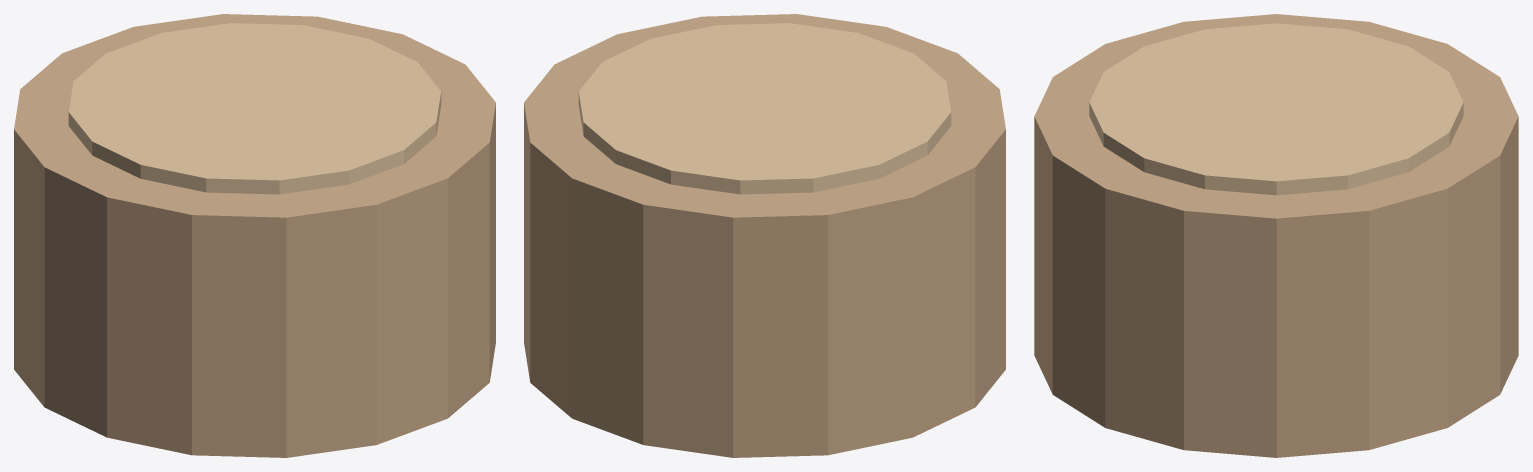
File: TreeStump.glb
3 views of the same model, side by side, from view 1: azimuth 30°, elevation 25°; view 2: azimuth 150°, elevation 25°; view 3: azimuth 270°, elevation 25° (orthographic).
Visible parts, largest first — view 1: TreeStump_0, TreeStump_1; view 2: TreeStump_0, TreeStump_1; view 3: TreeStump_0, TreeStump_1.
Part boxes in pixels (x1,y1,x2,y2): TreeStump_0: (14, 14, 495, 457); TreeStump_1: (68, 23, 441, 194); TreeStump_0: (524, 14, 1005, 457); TreeStump_1: (578, 23, 951, 194); TreeStump_0: (1034, 14, 1518, 457); TreeStump_1: (1089, 23, 1463, 195).
Size of the model in its own units: 2.2 by 1.27 by 2.2.
